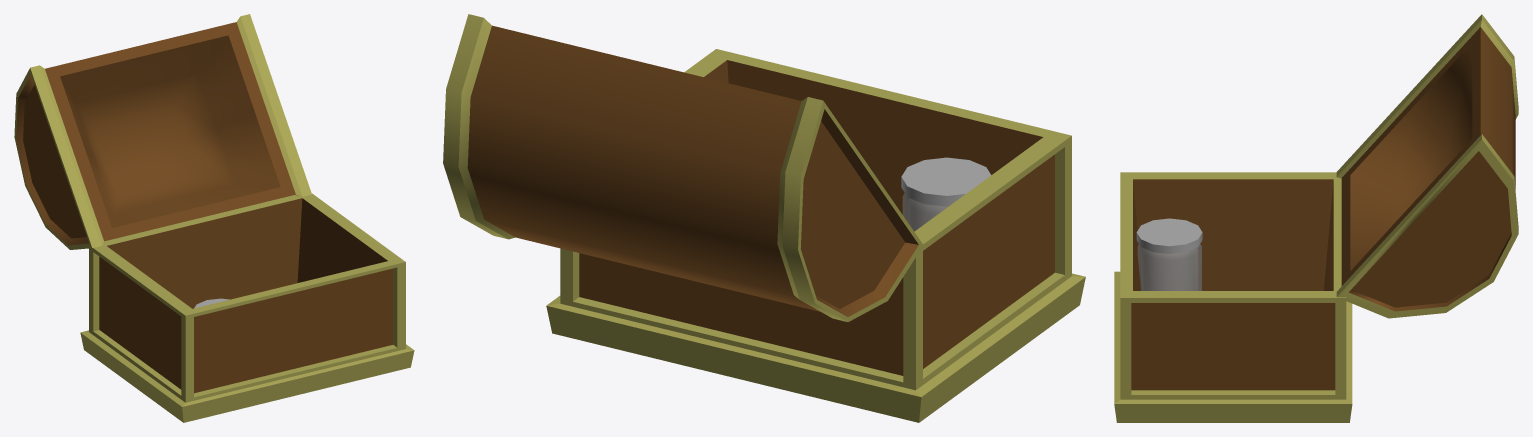
Rendered from Cafe_Chest_Anim.fbx.
The picture shows the model from 3 angles, left to right: view 1: azimuth 30°, elevation 25°; view 2: azimuth 150°, elevation 25°; view 3: azimuth 270°, elevation 25°; orthographic projection. The views are drawn at different scales.
Visible parts, largest first — view 1: polySurface2; view 2: polySurface2, pCylinder5; view 3: polySurface2, pCylinder5.
Part boxes in pixels (x1,y1,x2,y2): polySurface2: (14,14,414,422); polySurface2: (443,14,1085,422); pCylinder5: (901,157,991,231); polySurface2: (1114,14,1518,422); pCylinder5: (1136,218,1202,290).
Size of the model in its own units: 0.7278 by 0.7195 by 0.9388.
